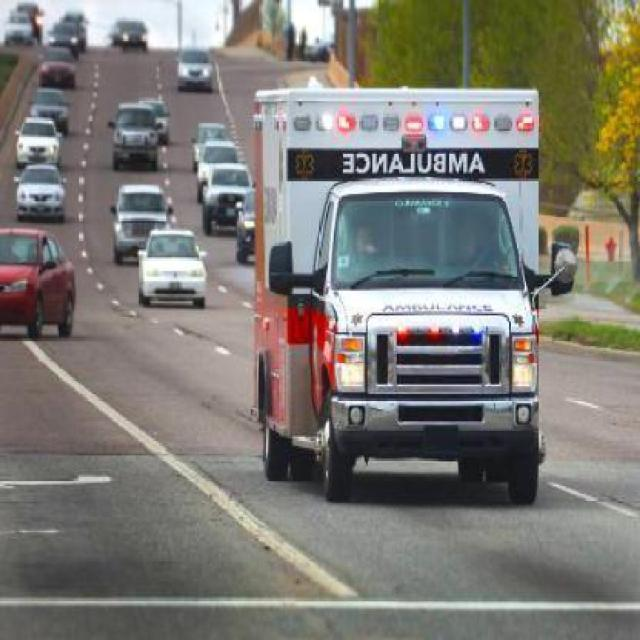emergency: (246, 82, 570, 506)
